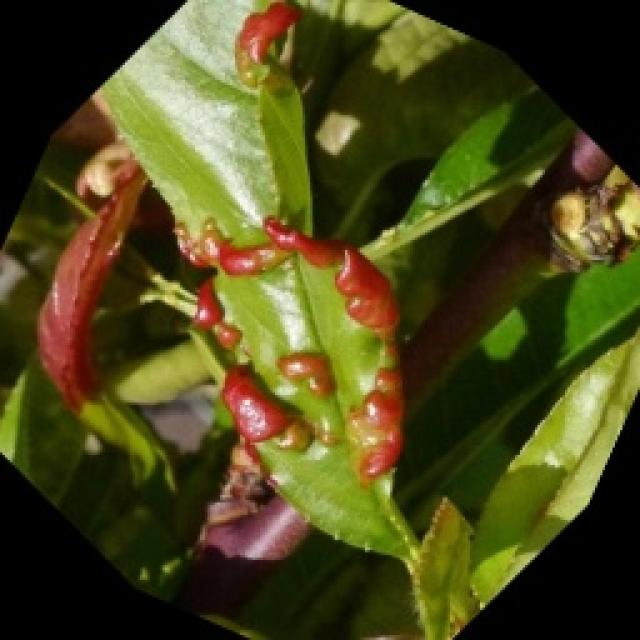peach_leaf_curl: (145, 160, 408, 534)
